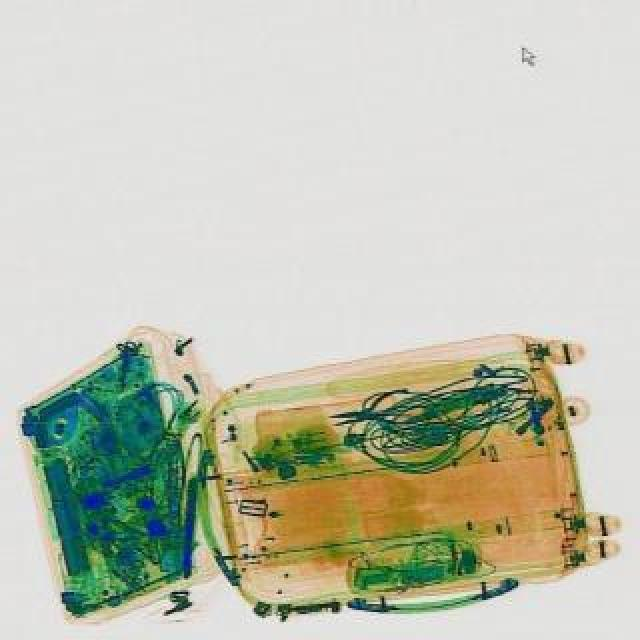wrench: (322, 386, 414, 438)
